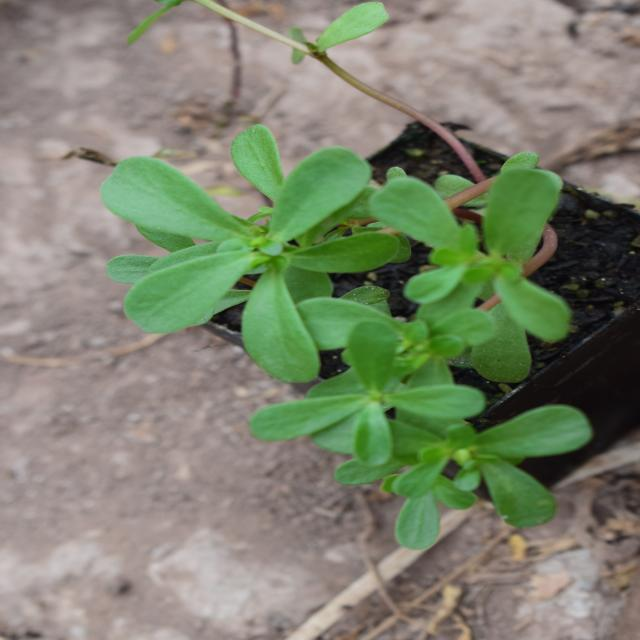purslane: (90, 87, 544, 565)
